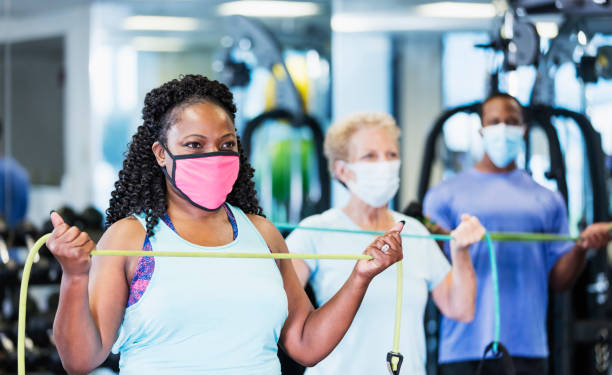with mask: (152, 100, 245, 209), (326, 120, 411, 207), (475, 94, 534, 169)
